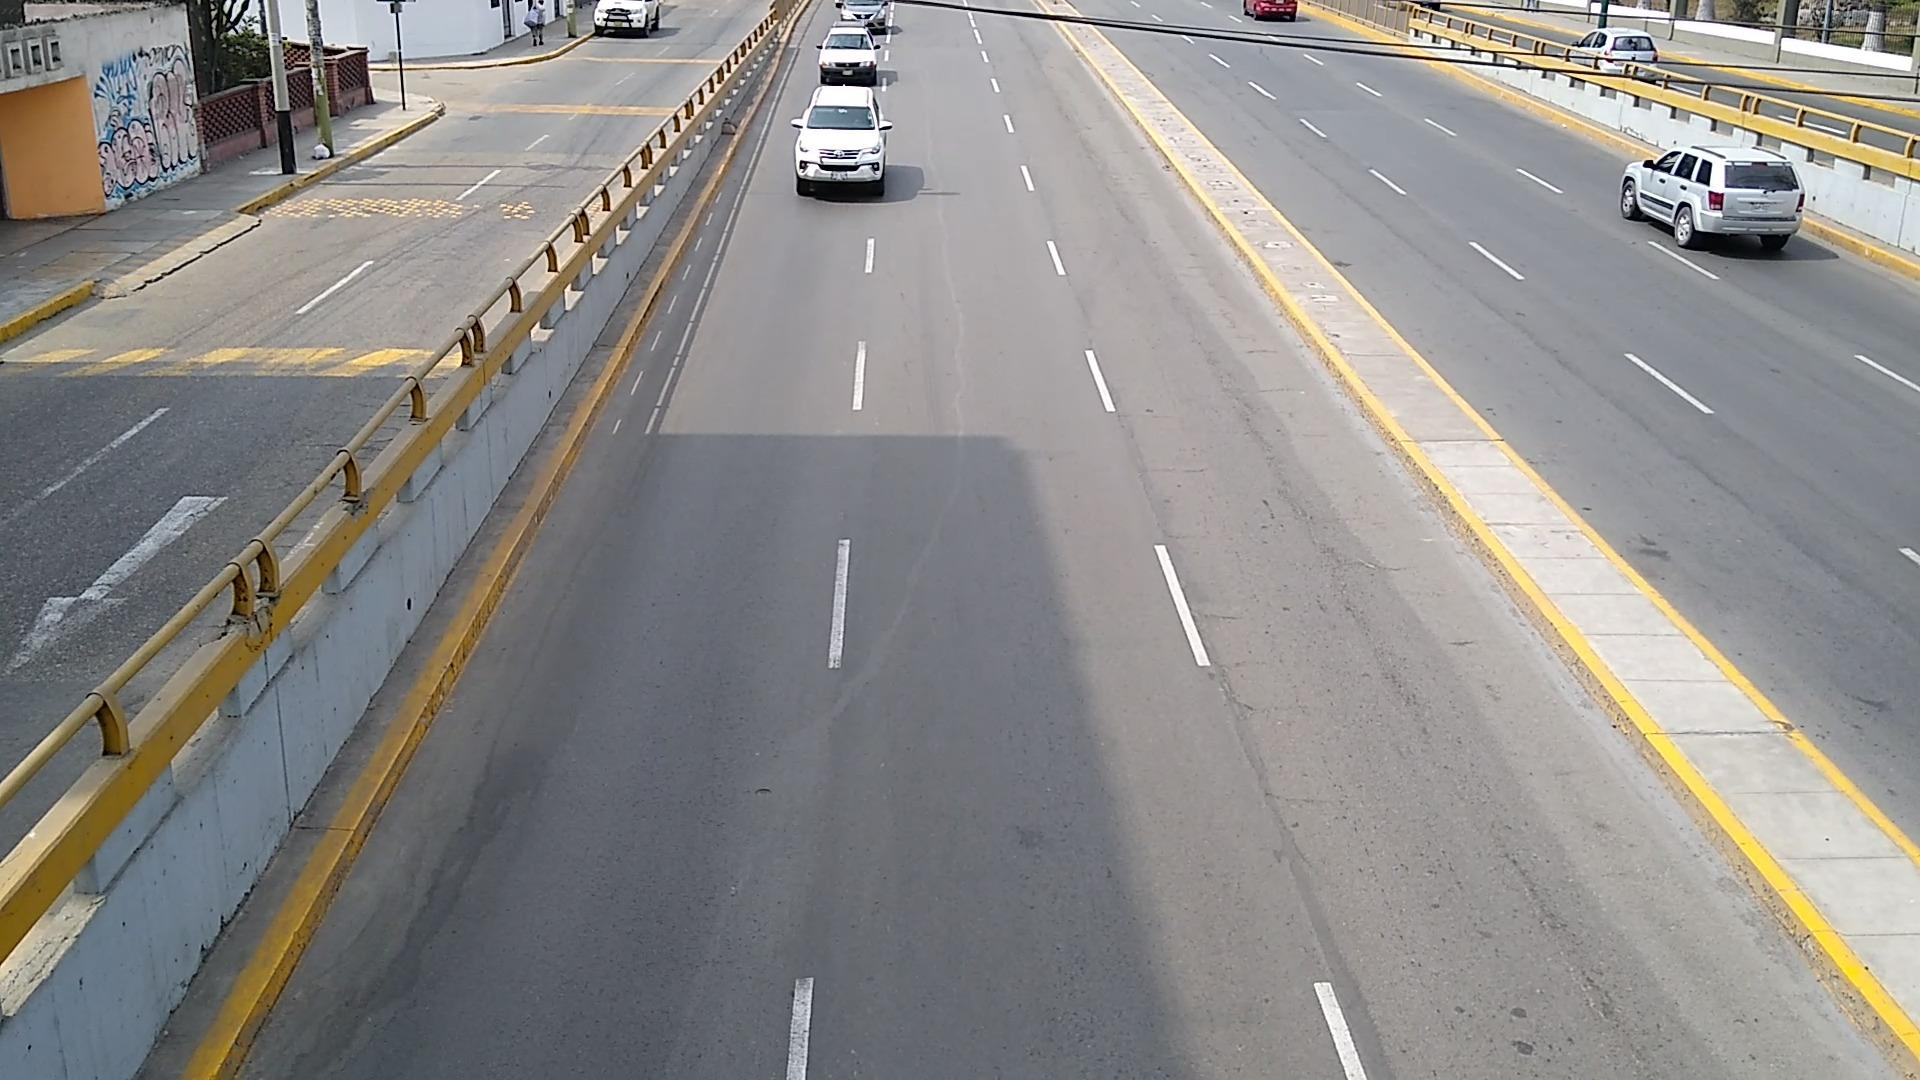car: (1620, 146, 1804, 248), (791, 86, 892, 195), (818, 26, 878, 86), (542, 0, 566, 24)
